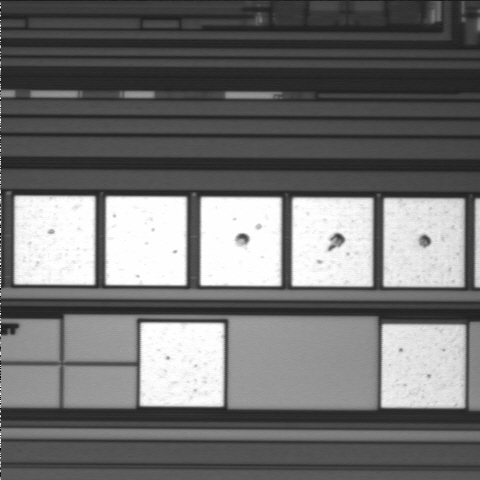pad: (105, 196, 187, 286), (200, 197, 282, 286), (14, 196, 95, 285), (292, 198, 373, 287), (383, 198, 464, 287), (140, 323, 224, 407), (381, 324, 465, 408)
